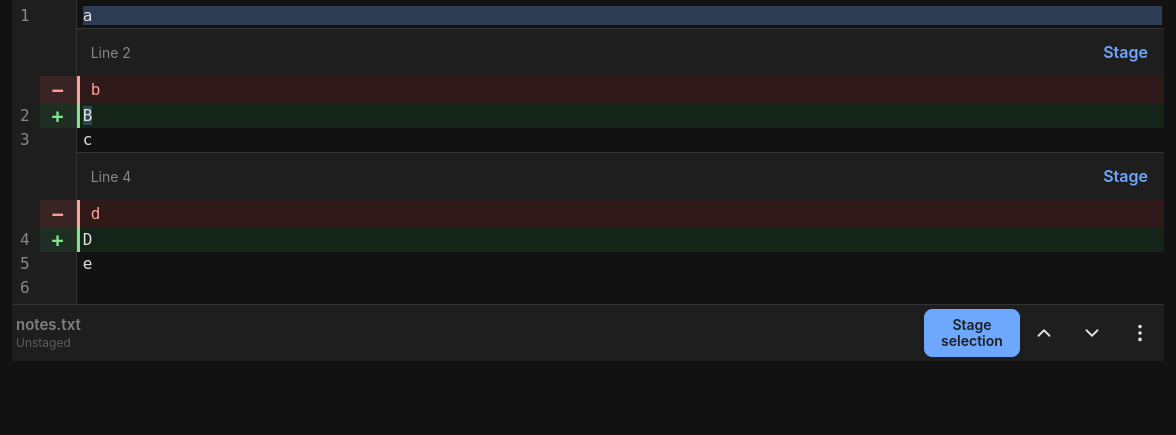
Test case: line picking › leaves the picks and the selection when the picked lines fail to stage
Click the 2nd text "+" at (58, 240), box [40, 228, 76, 252]
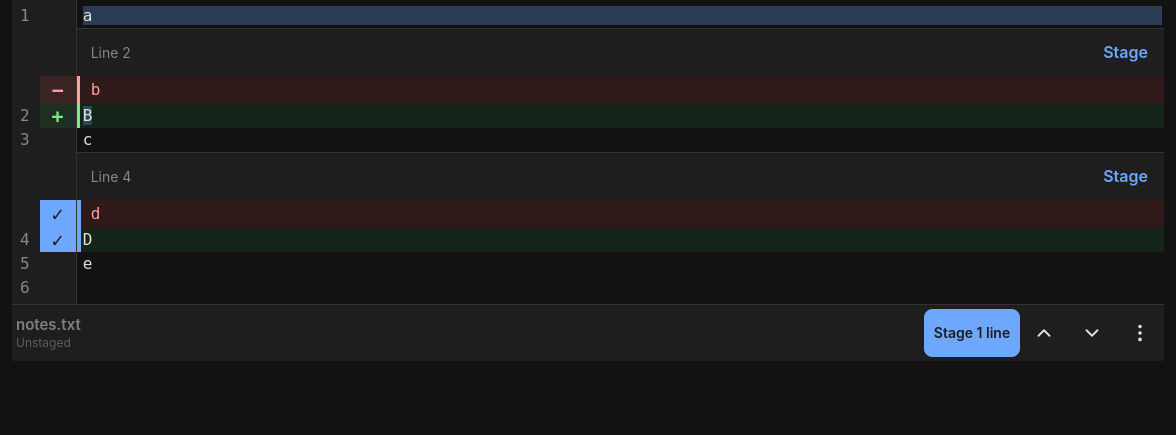
Click the button "Stage 1 line" at (972, 333), box [924, 309, 1020, 357]
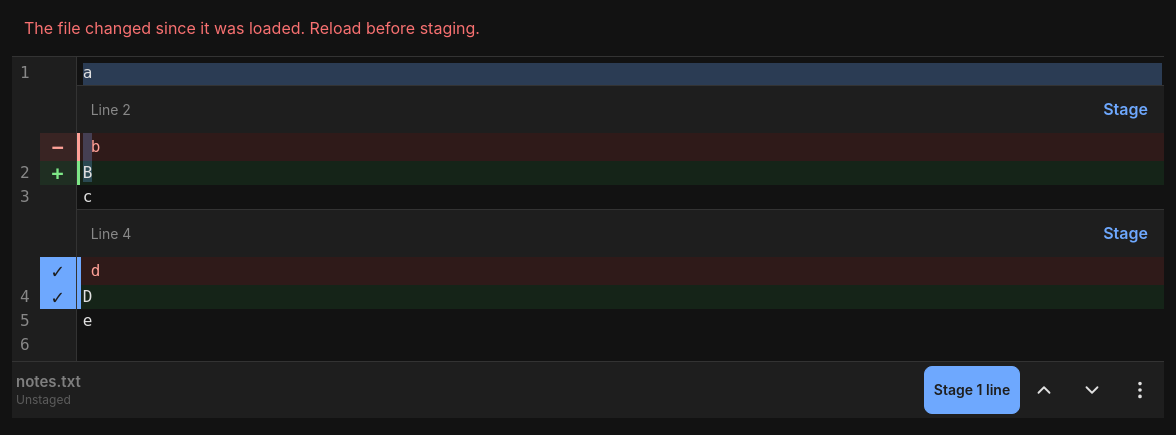
Now the button "Stage 1 line" is shown, box [924, 366, 1020, 414]
Now the text "The file changed since it was loaded. Reload before staging." is shown, box [12, 0, 1164, 57]
